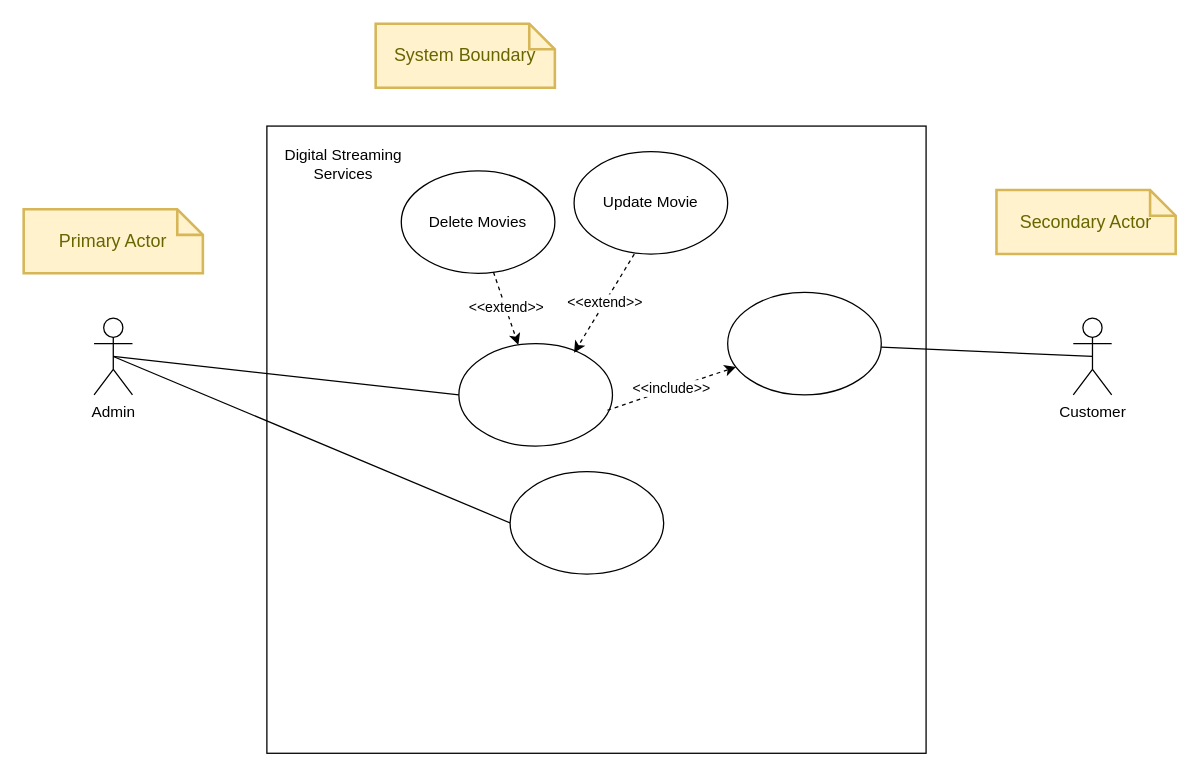
Image size: 1198x776. Some labels were removed from this diagram. The centre of each missing label's shape, as x and y in pixels:
Add Movie: the point at 586,522
Purchase Movie: the point at 803,343
View Movies: the point at 535,394
